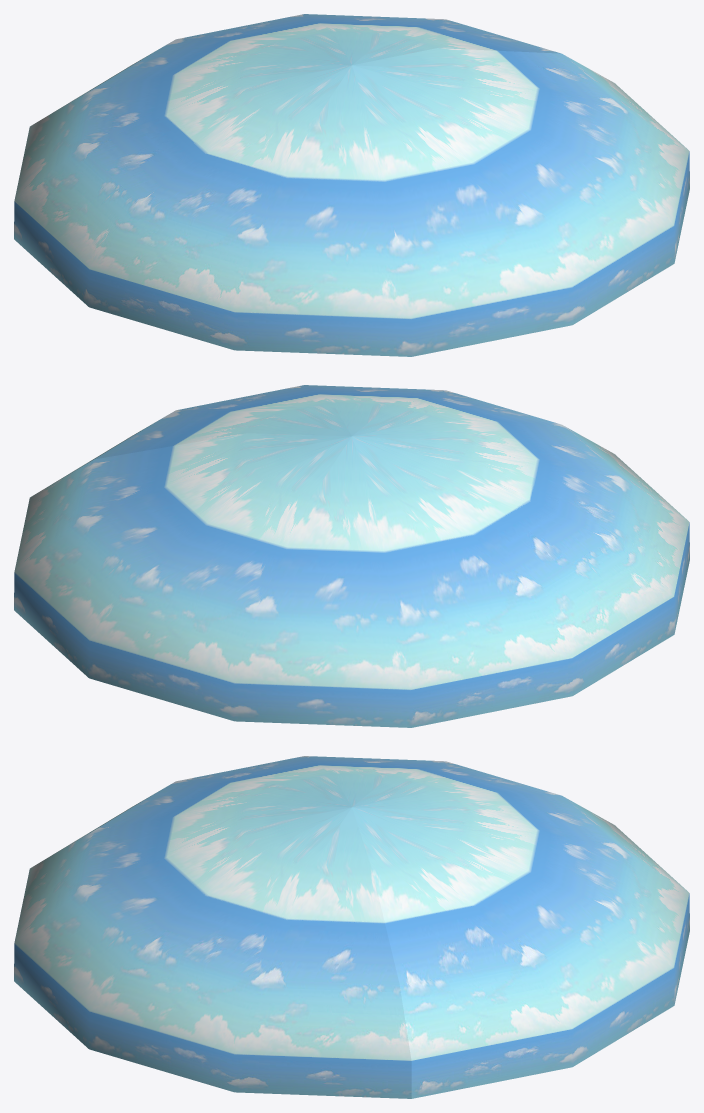
Rendered from stadium.glb.
The picture shows the model from 3 angles, top to bottom: view 1: azimuth 30°, elevation 25°; view 2: azimuth 150°, elevation 25°; view 3: azimuth 270°, elevation 25°; orthographic projection.
Parts seen in each view (by area): view 1: stadium_obj_cleaner_materialmerger_gles.001, stadium_obj_cleaner_materialmerger_gles; view 2: stadium_obj_cleaner_materialmerger_gles.001, stadium_obj_cleaner_materialmerger_gles; view 3: stadium_obj_cleaner_materialmerger_gles.001, stadium_obj_cleaner_materialmerger_gles.
Boxes of the visible parts, box(x1,y1,x2,y2) form: stadium_obj_cleaner_materialmerger_gles.001: box(22, 14, 689, 356); stadium_obj_cleaner_materialmerger_gles: box(14, 33, 678, 356); stadium_obj_cleaner_materialmerger_gles.001: box(14, 385, 679, 727); stadium_obj_cleaner_materialmerger_gles: box(14, 402, 689, 727); stadium_obj_cleaner_materialmerger_gles.001: box(14, 756, 689, 1083); stadium_obj_cleaner_materialmerger_gles: box(89, 756, 629, 1098).
Size of the model in its own units: 12.35 by 3 by 12.35.
122 materials, 122 textured.
